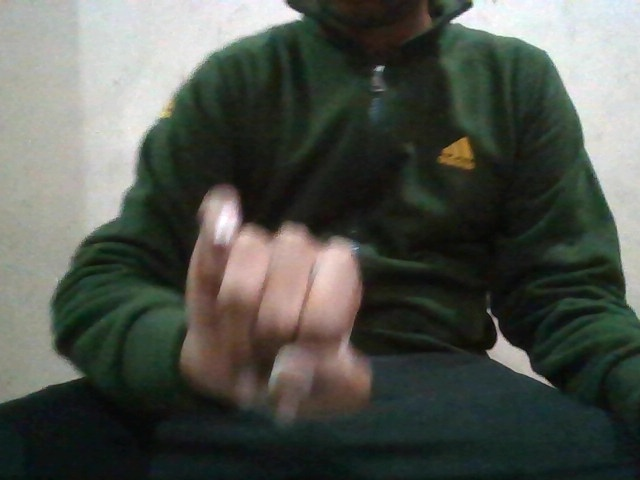J: (186, 179, 384, 432)
